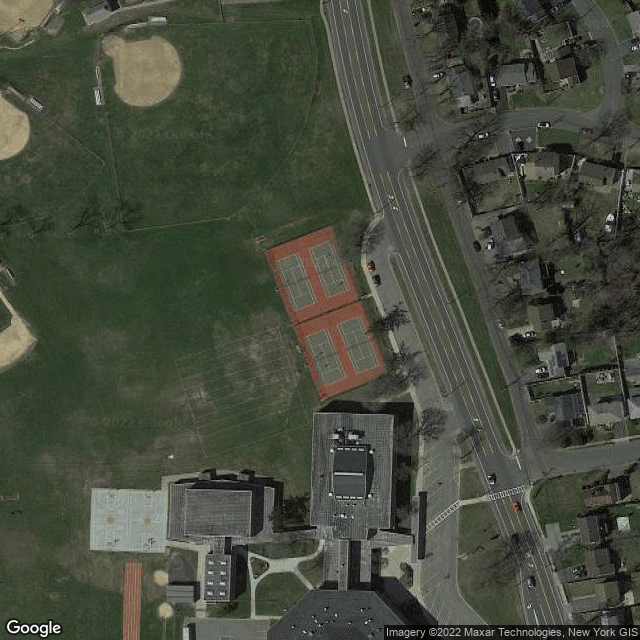Court: (303, 327, 346, 388), (274, 251, 317, 311), (337, 314, 379, 374), (307, 240, 350, 297)
